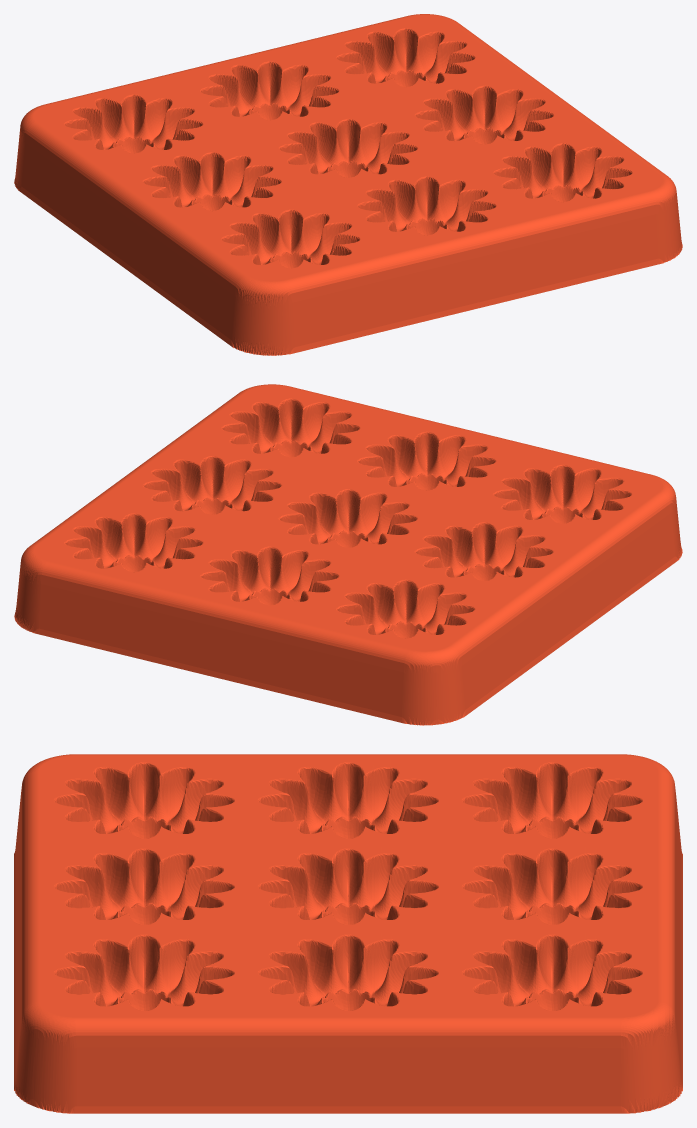
File: mold.glb
3 renders of one model, top to bottom at view 1: azimuth 30°, elevation 25°; view 2: azimuth 150°, elevation 25°; view 3: azimuth 270°, elevation 25°, orthographic. The views are drawn at different scales.
Parts seen in each view (by area): view 1: geometry_0; view 2: geometry_0; view 3: geometry_0.
Boxes of the visible parts, bbox=[...] form: geometry_0: bbox=[14, 14, 682, 355]; geometry_0: bbox=[14, 384, 682, 725]; geometry_0: bbox=[14, 754, 682, 1113].
Bounding box in the file's own units: 0.0964 × 0.0136 × 0.0964.
